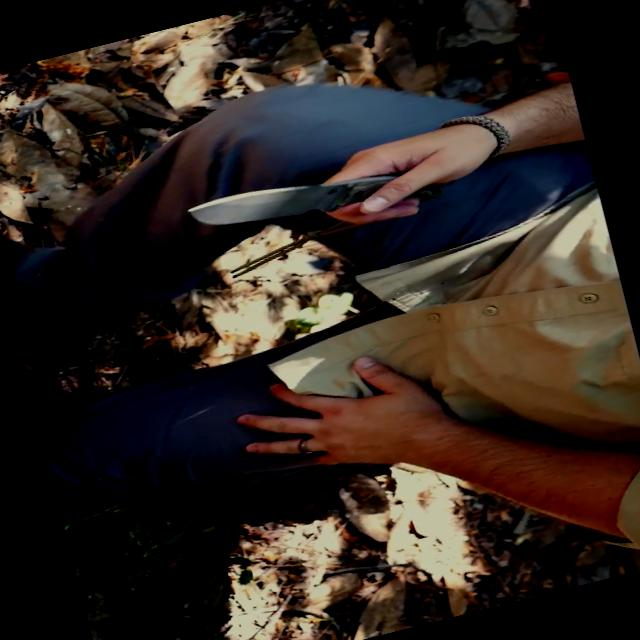knife: (181, 135, 425, 272)
